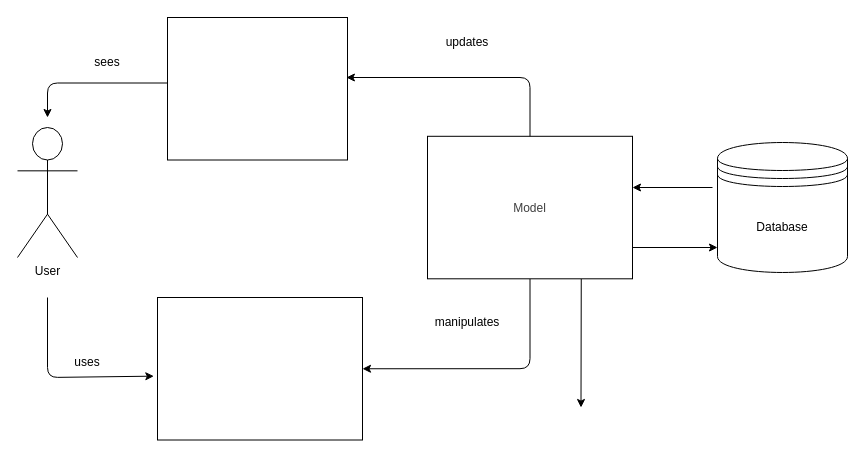
Image size: 865x458. Some labels were removed from this diagram. Here are the shapes that lost their labels. From the top down, the box of each, then its label:
(166, 16, 348, 160): Web UI (View)
(156, 296, 362, 440): Backend (Controller)
